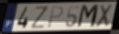4: (16, 6, 29, 30)
5: (65, 5, 81, 28)
M: (76, 4, 100, 30)
P: (47, 5, 65, 29)
X: (94, 4, 114, 29)
Z: (31, 6, 49, 30)
